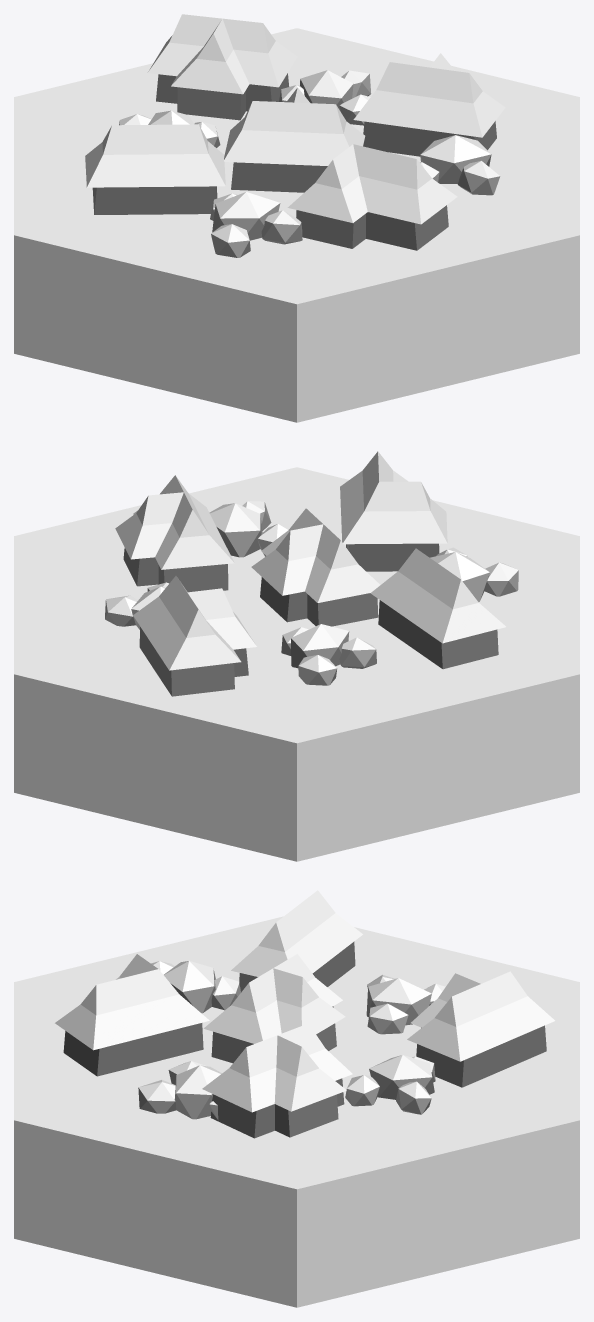
The model's file is Casas_Rocoso_Nieve_5.fbx.
The picture shows the model from 3 angles, top to bottom: view 1: azimuth 30°, elevation 25°; view 2: azimuth 150°, elevation 25°; view 3: azimuth 270°, elevation 25°; orthographic projection.
Parts seen in each view (by area): view 1: Casas_Rocoso_Nieve_5; view 2: Casas_Rocoso_Nieve_5; view 3: Casas_Rocoso_Nieve_5.
Part boxes in pixels (<box>): Casas_Rocoso_Nieve_5: <box>14,14,579,422</box>; Casas_Rocoso_Nieve_5: <box>14,451,579,861</box>; Casas_Rocoso_Nieve_5: <box>14,890,579,1307</box>.
Size of the model in its own units: 200 by 65.63 by 173.
